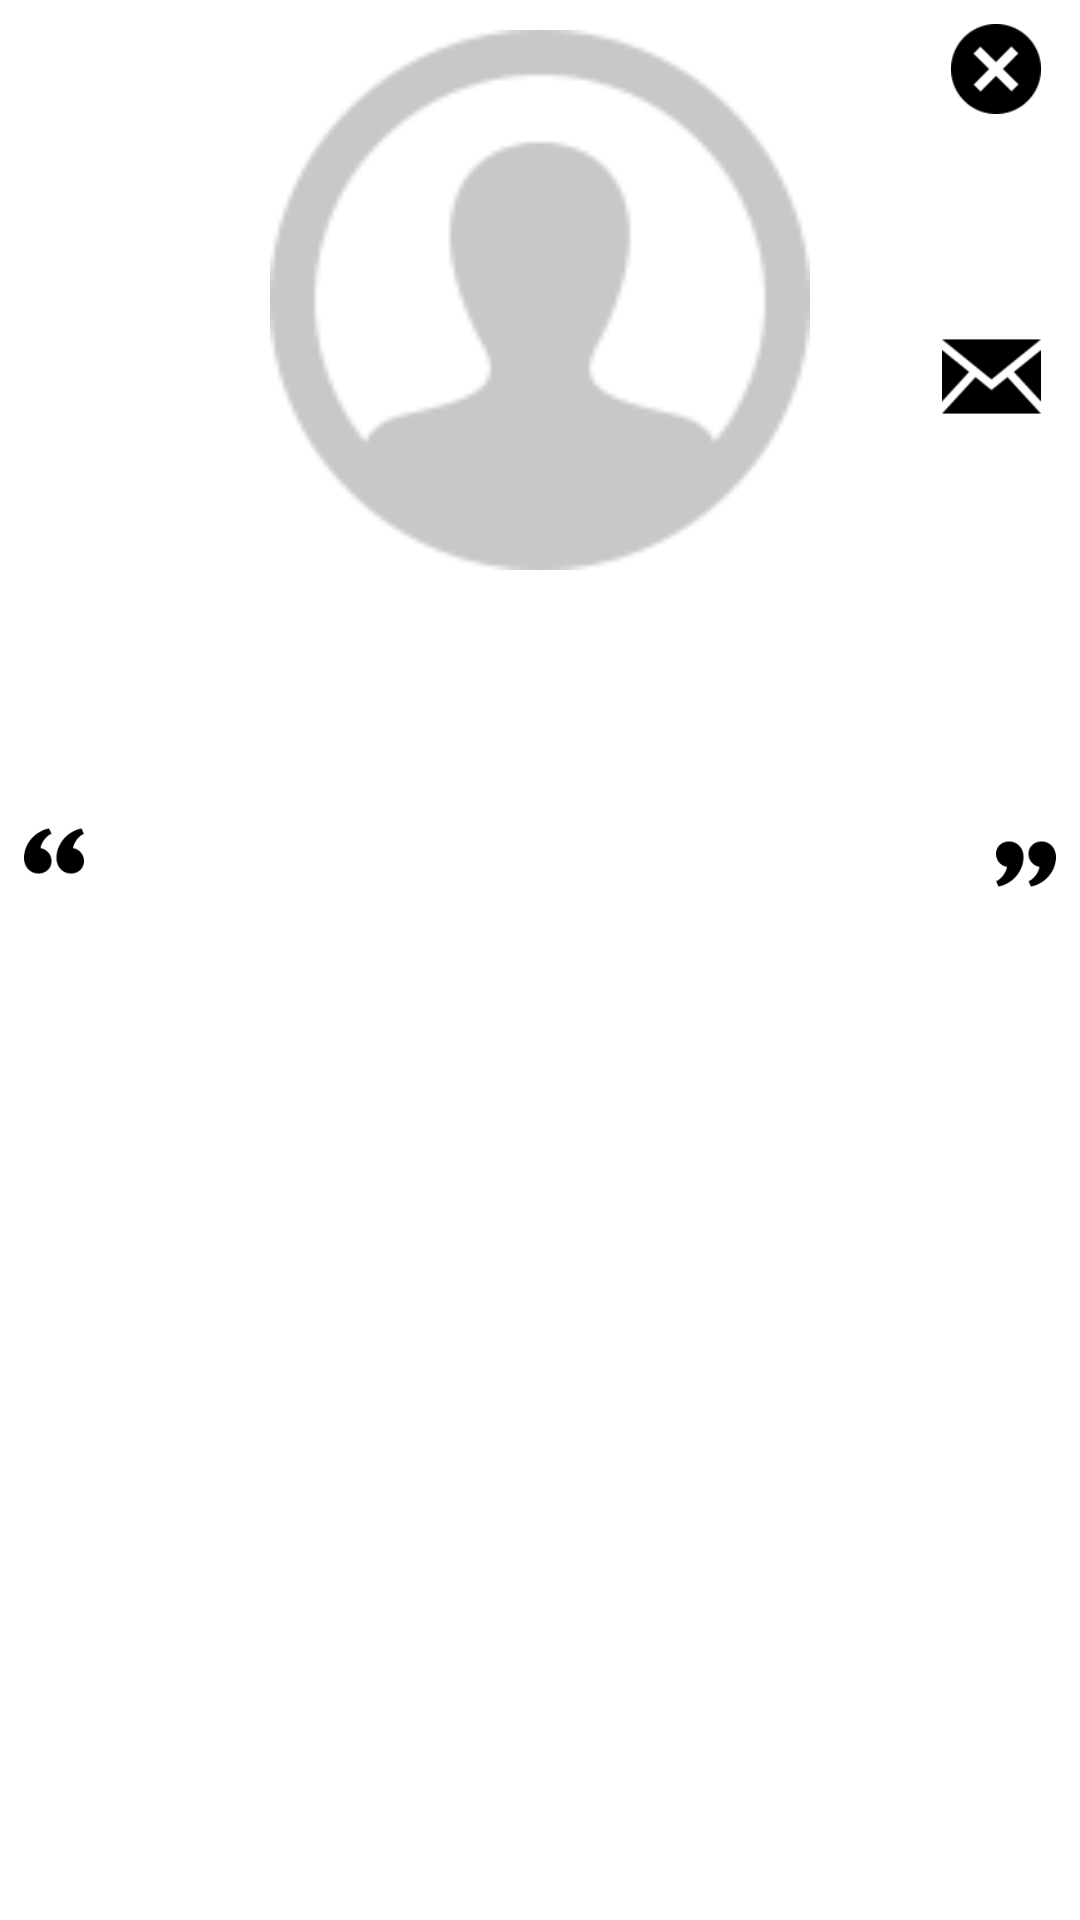

Locate icon controls on the screen. Image size 1080×1920, boxes as [x1, y1, x2, y2].
닫기: [951, 24, 1041, 114]
쌍따옴표 끝: [996, 841, 1056, 887]
쌍따옴표 시작: [24, 828, 84, 874]
쪽지 보내기: [942, 339, 1041, 414]
